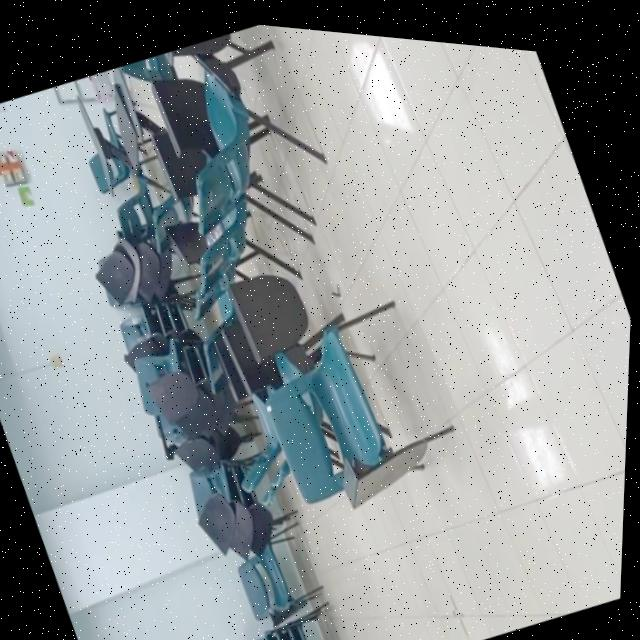sandalye: (270, 293, 456, 501), (241, 517, 326, 615)
